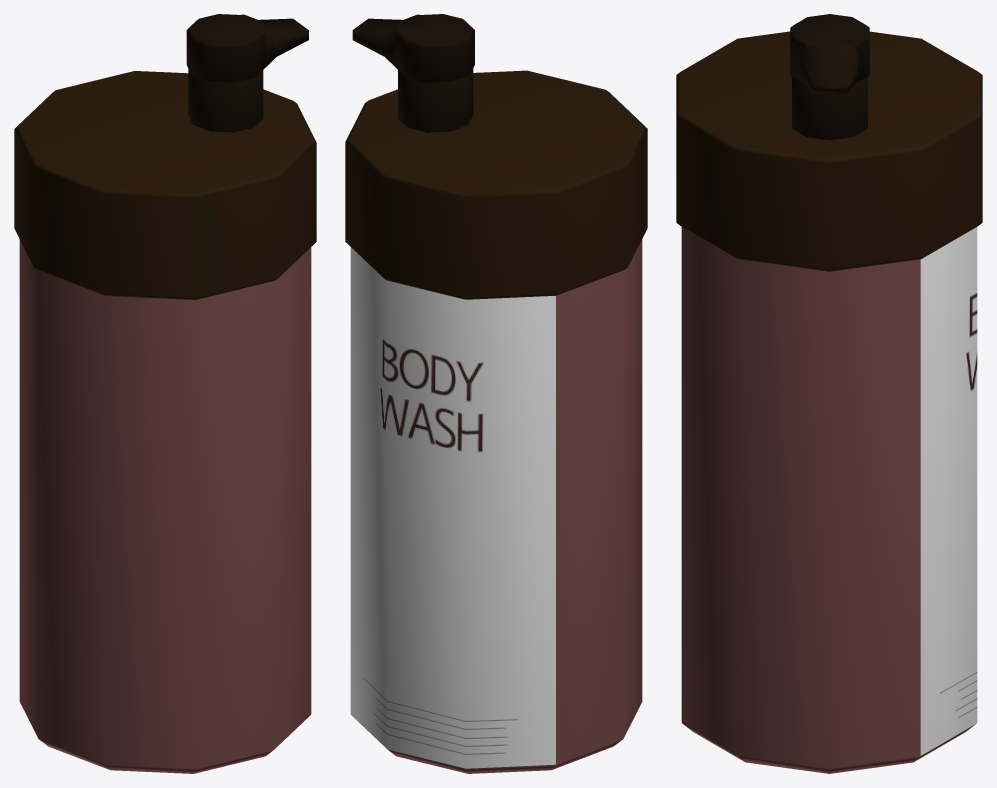
Rendered from Eden_bodywash.fbx.
The picture shows the model from 3 angles, left to right: view 1: azimuth 30°, elevation 25°; view 2: azimuth 150°, elevation 25°; view 3: azimuth 270°, elevation 25°; orthographic projection. The views are drawn at different scales.
Visible parts, largest first — view 1: realbodywash; view 2: realbodywash; view 3: realbodywash.
Boxes of the visible parts, x1,y1,x2,y2 form: realbodywash: [14, 14, 316, 773]; realbodywash: [345, 14, 647, 773]; realbodywash: [676, 14, 982, 773].
Size of the model in its own units: 0.00165 by 0.00397 by 0.00154.
Materials: 1 (1 with a texture image).
